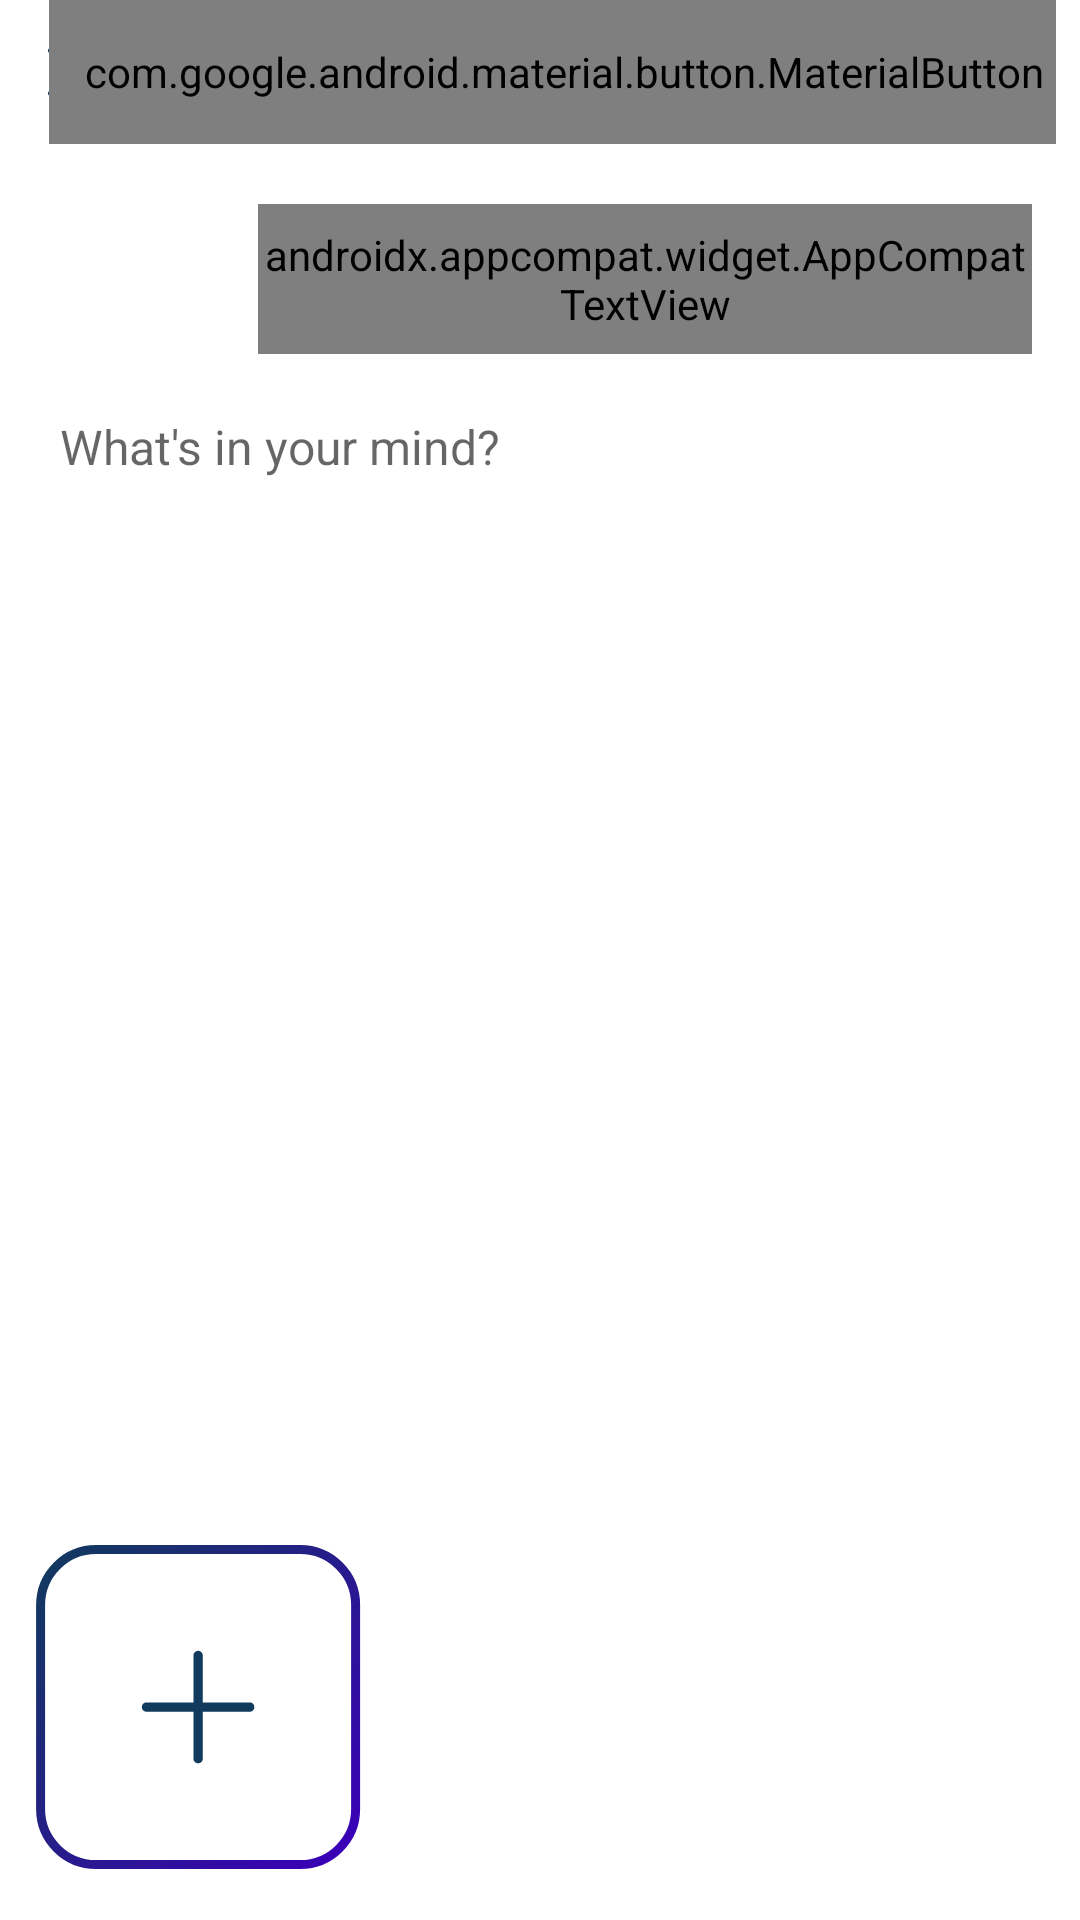

Point at icon controls on the screen. Image size 1080px x 1920px, points as point (x, y).
add content: point (198, 1707)
